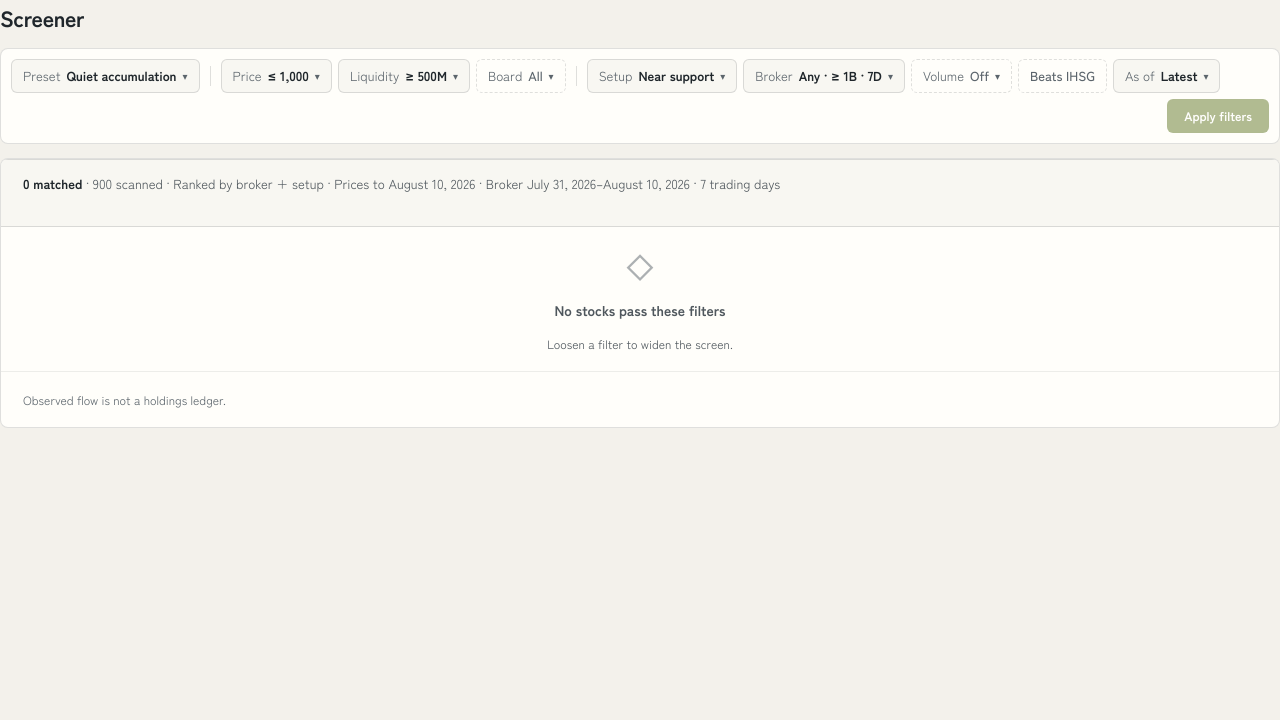
it: Radar › applies on Enter in a filter input and discards drafts with Reset
The image size is (1280, 720).
Click the button "Price ≤ 1,000 ▾" at (276, 76), box [221,58,332,92]
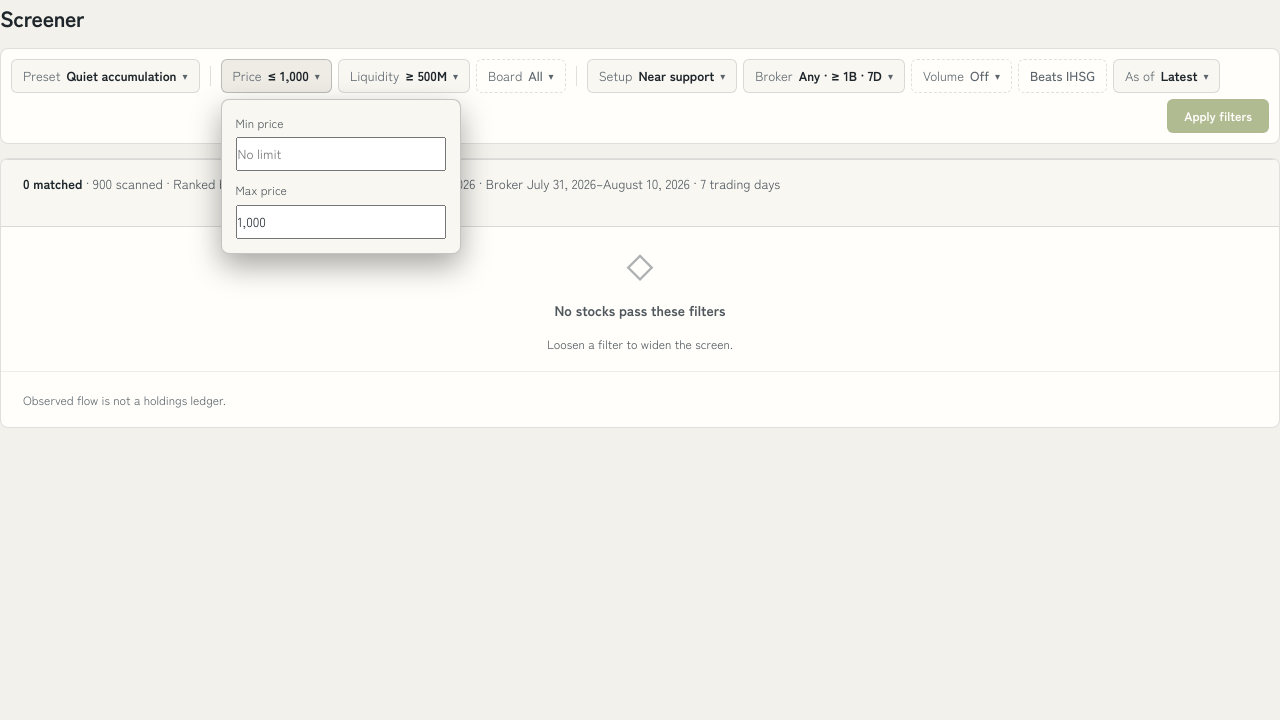
Replace the text in the field labelled "Max price" with "700" at (341, 222), box [236,205,446,239]
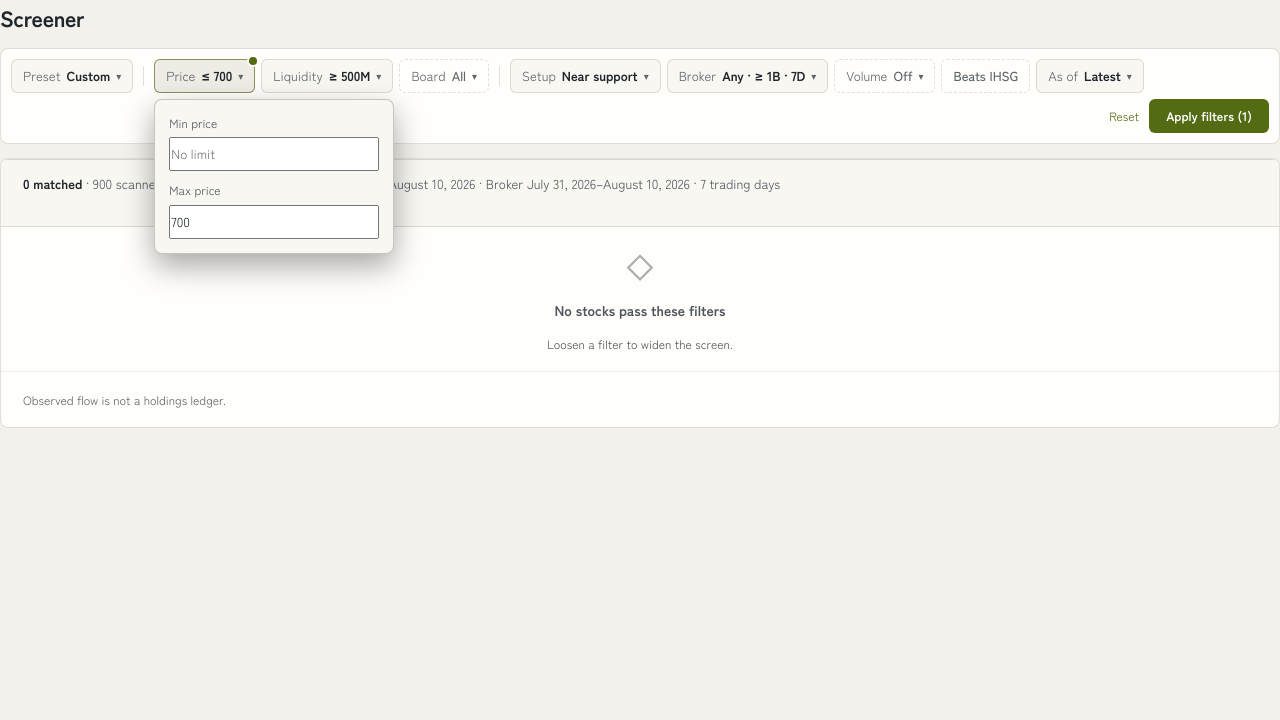
Press Enter in the field labelled "Max price", box [169,205,379,239]
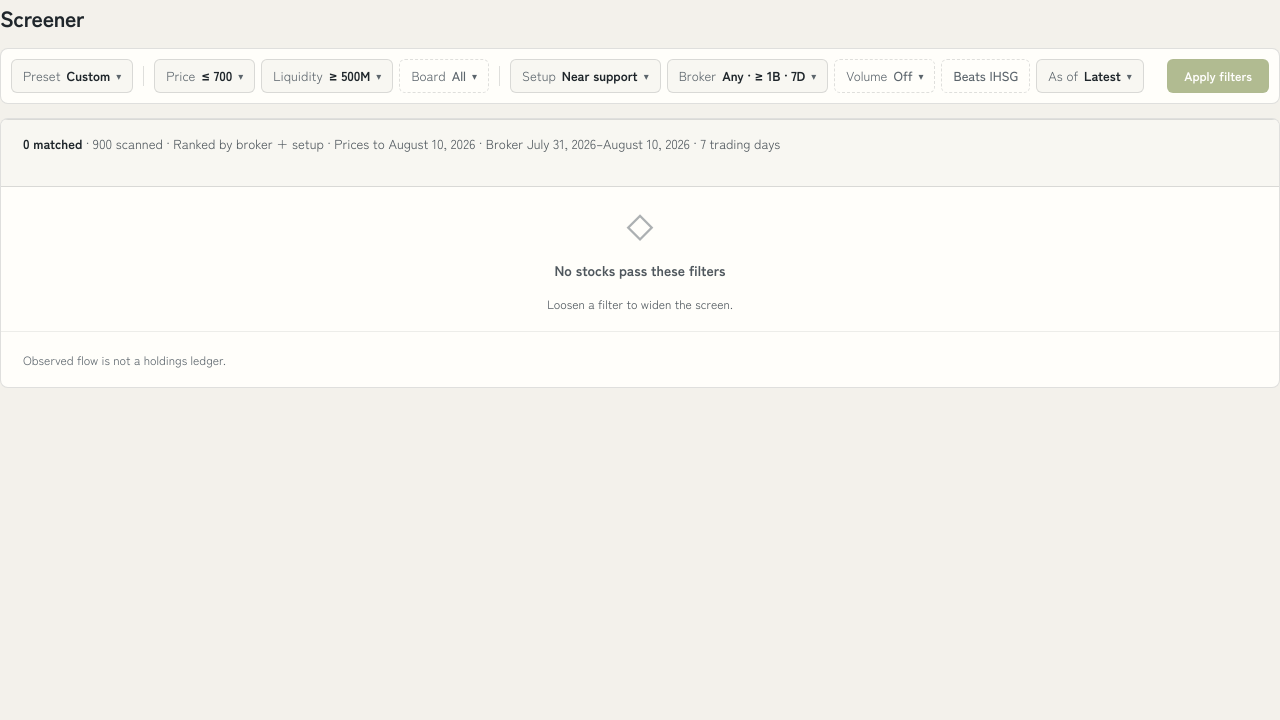
Click the button "Setup Near support ▾" at (585, 76), box [510,58,661,92]
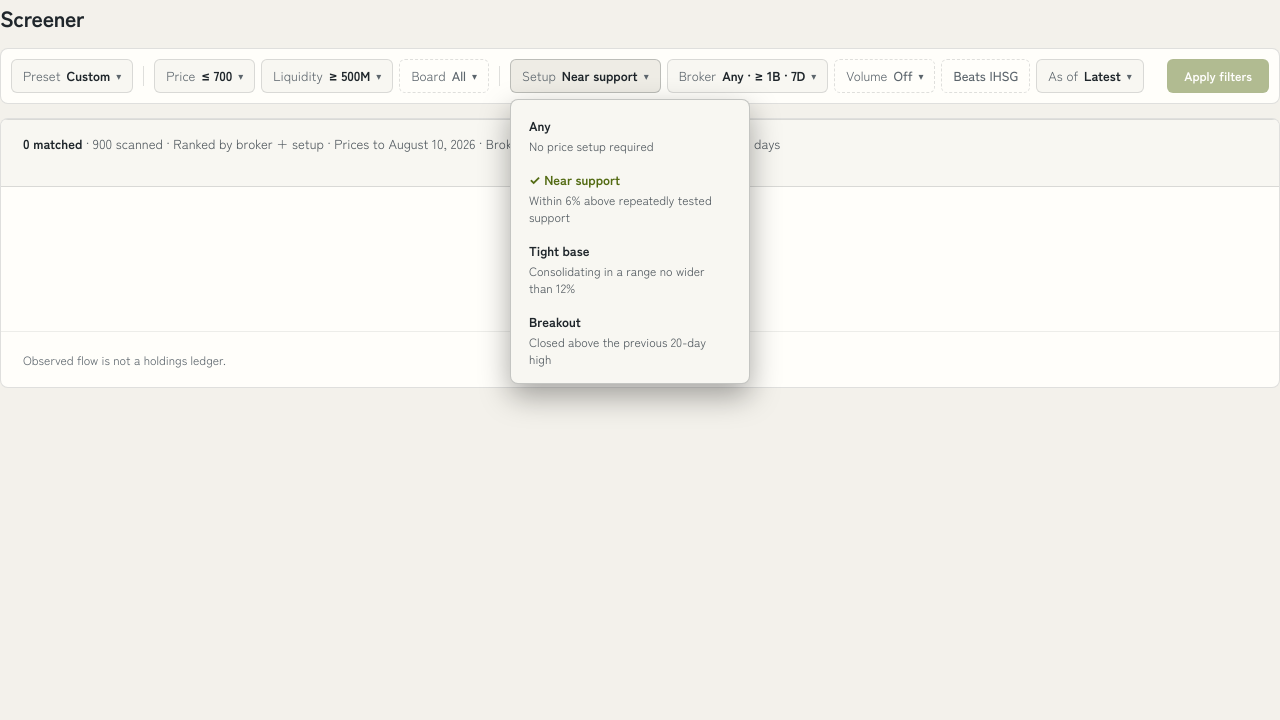
Click the button "Tight base Consolidating in a range no wider than 12%" at (630, 268), box [519,232,741,304]
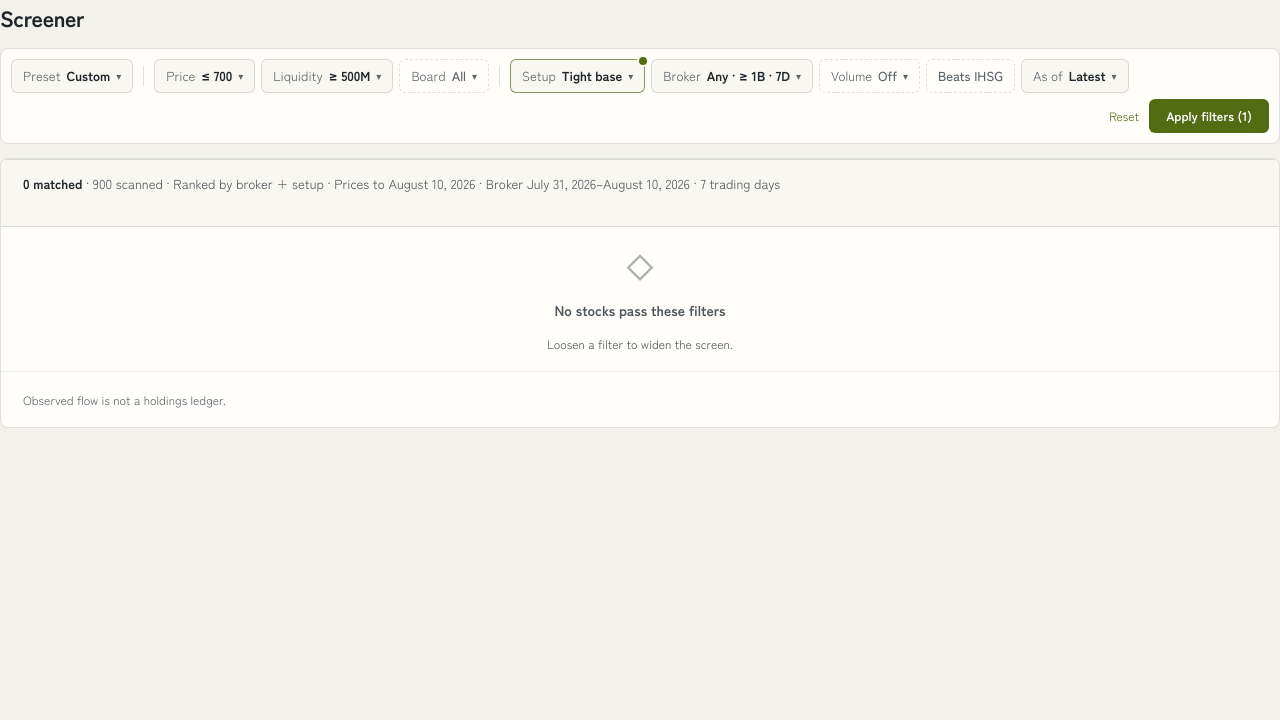
Click the button "Reset" at (1124, 116), box [1109,107,1139,124]
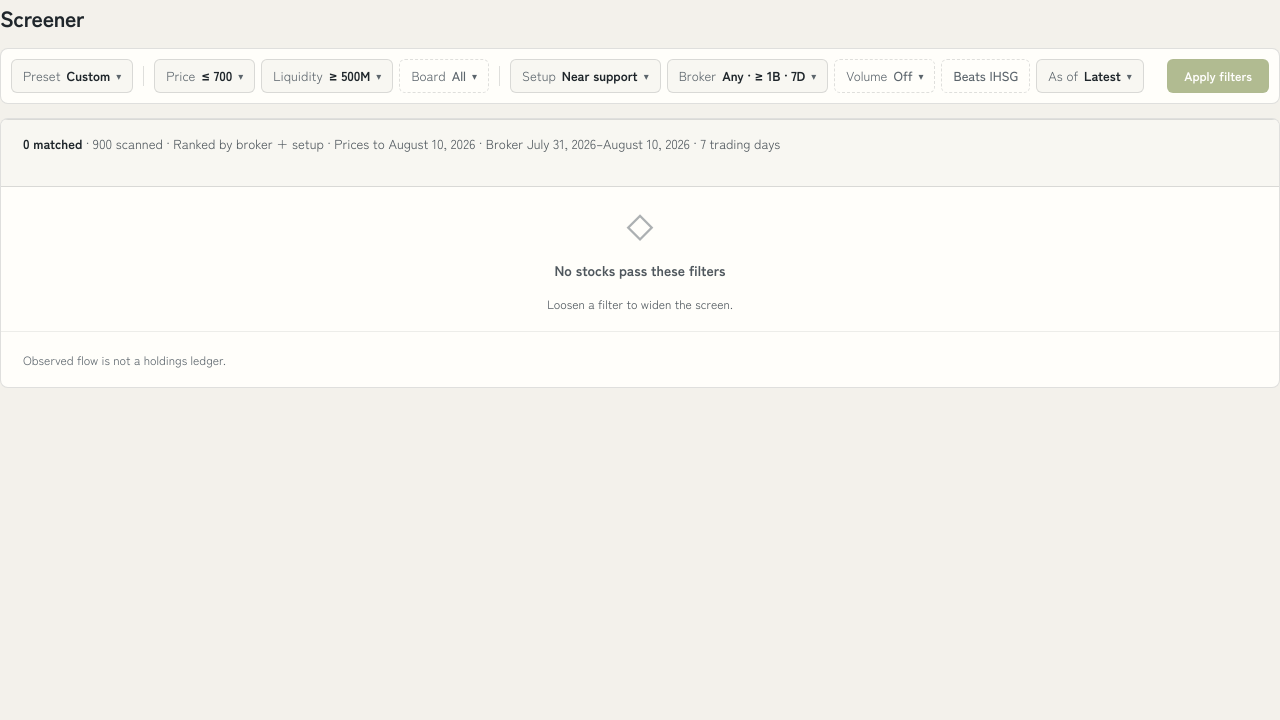
Expected: the button "Setup Near support ▾" is shown, [510,58,661,92]
Expected: the button "Apply filters" is disabled, [1167,58,1269,92]
